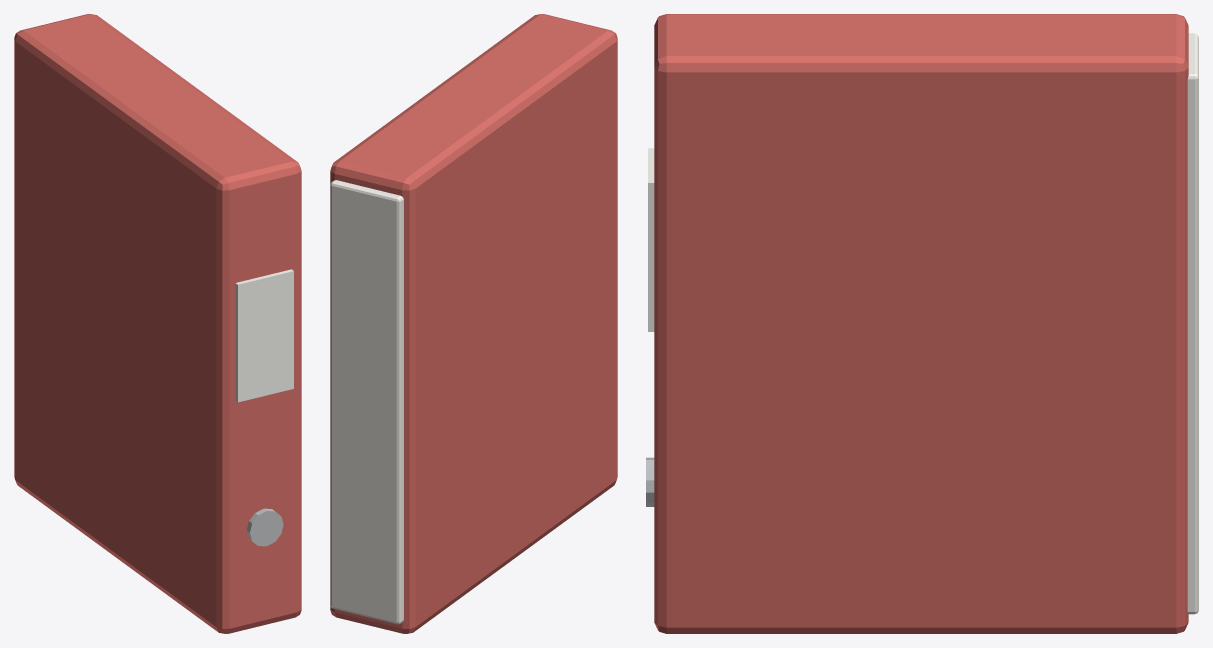
Rendered from binder_red.fbx.
3 views of the same model, side by side, from view 1: azimuth 30°, elevation 25°; view 2: azimuth 150°, elevation 25°; view 3: azimuth 270°, elevation 25° (orthographic). The views are drawn at different scales.
Visible parts, largest first — view 1: binder_red; view 2: binder_red; view 3: binder_red.
Part boxes in pixels (x1,y1,x2,y2): binder_red: (14, 14, 301, 633); binder_red: (330, 14, 617, 633); binder_red: (646, 14, 1198, 633).
Bounding box in the file's own units: 0.06 × 0.31 × 0.269.
